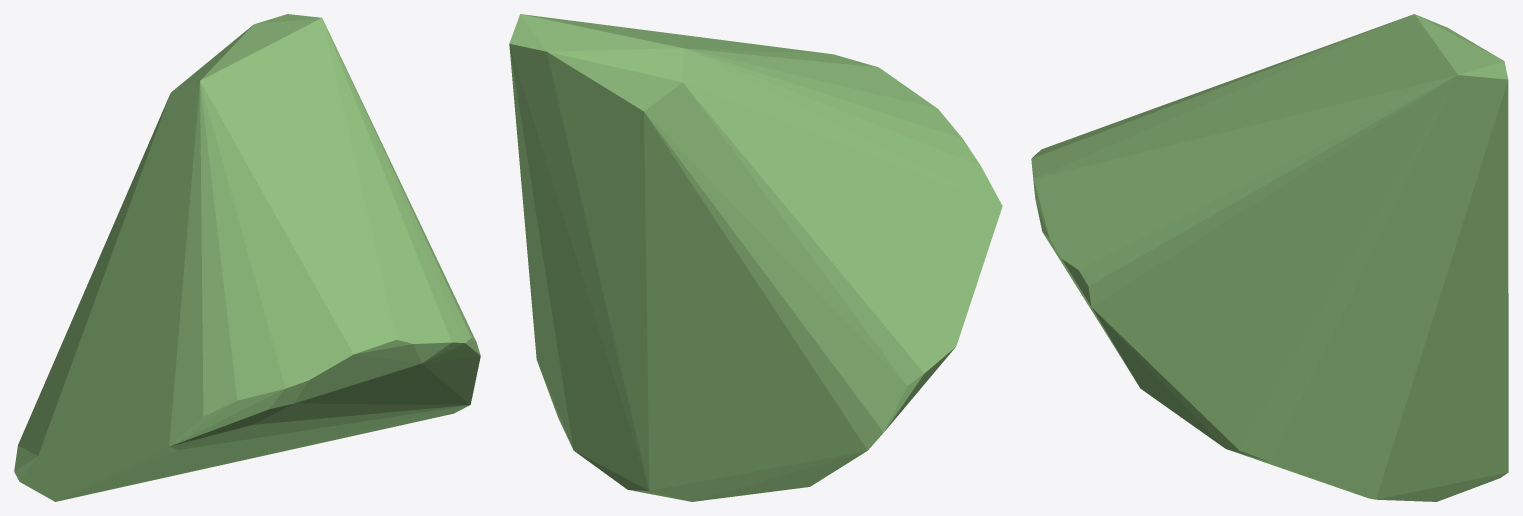
The model's file is food_produce_mushroom_b01.glb.
3 views of the same model, side by side, from view 1: azimuth 30°, elevation 25°; view 2: azimuth 150°, elevation 25°; view 3: azimuth 270°, elevation 25° (orthographic). The views are drawn at different scales.
Visible parts, largest first — view 1: geometry_0; view 2: geometry_0; view 3: geometry_0.
Boxes of the visible parts, x1,y1,x2,y2 form: geometry_0: (14,14,480,501); geometry_0: (509,14,1002,501); geometry_0: (1031,14,1508,501).
Size of the model in its own units: 0.4525 by 0.46 by 0.4204.
